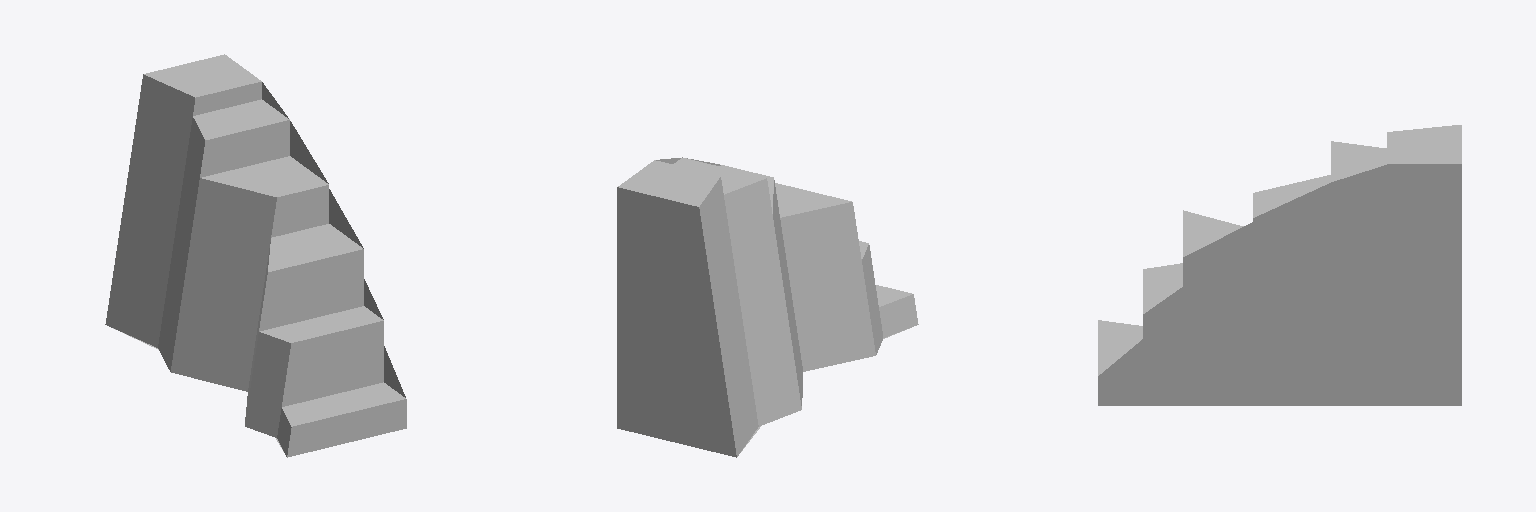
File: Grey_Cliff_End_01.obj
The picture shows the model from 3 angles: view 1: azimuth 30°, elevation 25°; view 2: azimuth 150°, elevation 25°; view 3: azimuth 270°, elevation 25°; orthographic projection.
Parts seen in each view (by area): view 1: Mesh1_Grey_Cliff_End_Model; view 2: Mesh1_Grey_Cliff_End_Model; view 3: Mesh1_Grey_Cliff_End_Model.
Boxes of the visible parts, x1=… form: Mesh1_Grey_Cliff_End_Model: x1=105, y1=54, x2=406, y2=457; Mesh1_Grey_Cliff_End_Model: x1=617, y1=157, x2=918, y2=457; Mesh1_Grey_Cliff_End_Model: x1=1098, y1=125, x2=1461, y2=405.
Bounding box in the file's own units: 1.14 × 2.2 × 3.